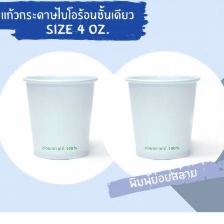paper_cup: (119, 69, 205, 164), (18, 68, 100, 162)
